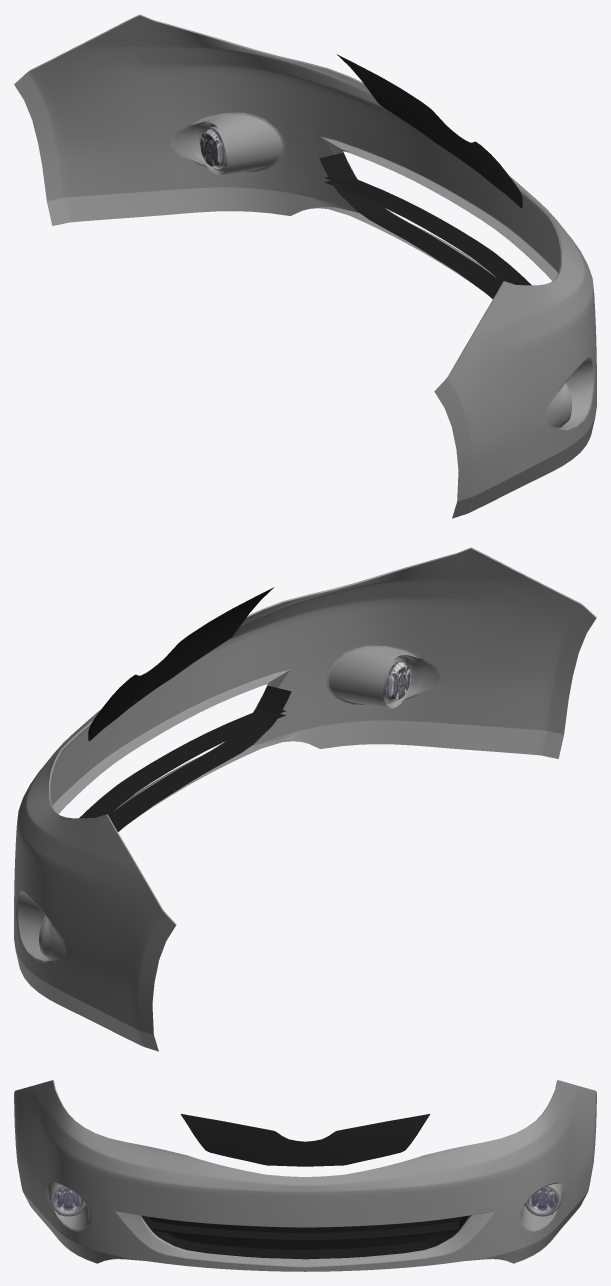
3 views of the same model, one above another, from view 1: azimuth 30°, elevation 25°; view 2: azimuth 150°, elevation 25°; view 3: azimuth 270°, elevation 25° (orthographic). The views are drawn at different scales.
Parts seen in each view (by area): view 1: F183_021G_C_F183_021G_C_5_DaS, F183_021G_C_F183_021G_C_2_D, F183_021G_C_F183_021G_C_5_DaS_E, F183_021G_C_F183_021G_C_3_D, F183_021G_C_1_N_F183_021G_C; view 2: F183_021G_C_F183_021G_C_5_DaS, F183_021G_C_F183_021G_C_2_D, F183_021G_C_F183_021G_C_5_DaS_E, F183_021G_C_F183_021G_C_3_D, F183_021G_C_F183_021G_C_4_N; view 3: F183_021G_C_F183_021G_C_5_DaS, F183_021G_C_F183_021G_C_3_D, F183_021G_C_F183_021G_C_2_D, F183_021G_C_F183_021G_C_5_DaS_E, F183_021G_C_1_N_F183_021G_C, F183_021G_C_F183_021G_C_4_N, F183_021G_C_F183_021G_C_6_DTaSI, F183_021G_C_F183_021G_C_7_DTaSI.
Boxes of the visible parts, x1,y1,x2,y2 form: F183_021G_C_F183_021G_C_5_DaS: [14, 15, 596, 518]; F183_021G_C_F183_021G_C_2_D: [319, 152, 531, 298]; F183_021G_C_F183_021G_C_5_DaS_E: [14, 14, 594, 430]; F183_021G_C_F183_021G_C_3_D: [337, 54, 522, 208]; F183_021G_C_1_N_F183_021G_C: [200, 127, 225, 169]; F183_021G_C_F183_021G_C_5_DaS: [14, 548, 596, 1051]; F183_021G_C_F183_021G_C_2_D: [79, 685, 291, 831]; F183_021G_C_F183_021G_C_5_DaS_E: [16, 547, 596, 963]; F183_021G_C_F183_021G_C_3_D: [88, 587, 273, 741]; F183_021G_C_F183_021G_C_4_N: [385, 660, 410, 702]; F183_021G_C_F183_021G_C_5_DaS: [14, 1080, 596, 1271]; F183_021G_C_F183_021G_C_3_D: [149, 1114, 461, 1249]; F183_021G_C_F183_021G_C_2_D: [141, 1215, 469, 1259]; F183_021G_C_F183_021G_C_5_DaS_E: [46, 1080, 564, 1267]; F183_021G_C_1_N_F183_021G_C: [528, 1187, 557, 1212]; F183_021G_C_F183_021G_C_4_N: [53, 1187, 82, 1212]; F183_021G_C_F183_021G_C_6_DTaSI: [528, 1188, 557, 1212]; F183_021G_C_F183_021G_C_7_DTaSI: [53, 1188, 82, 1212].
Size of the model in its own units: 82.58 by 58.69 by 213.
